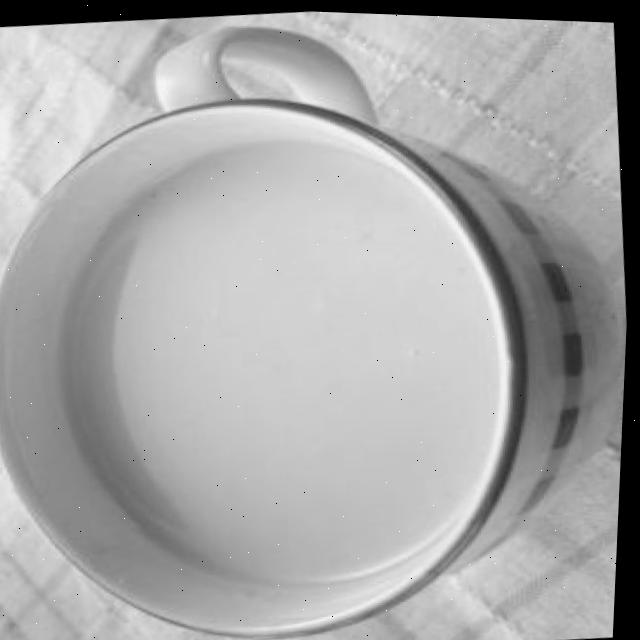汤锅炖物: (0, 43, 638, 640)
